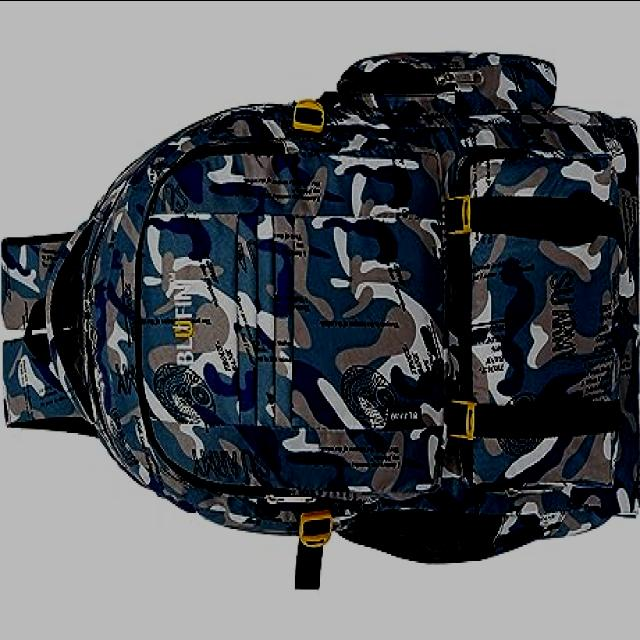backpack: (1, 43, 640, 609)
